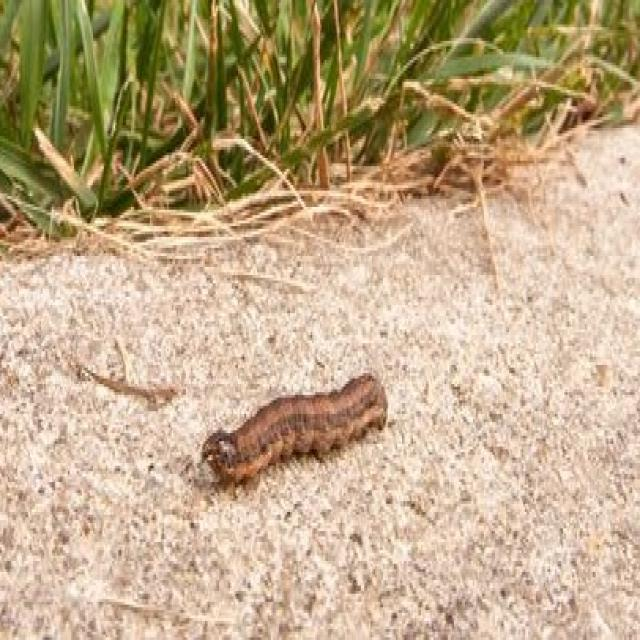Fall-armyworm: (203, 375, 389, 498)
